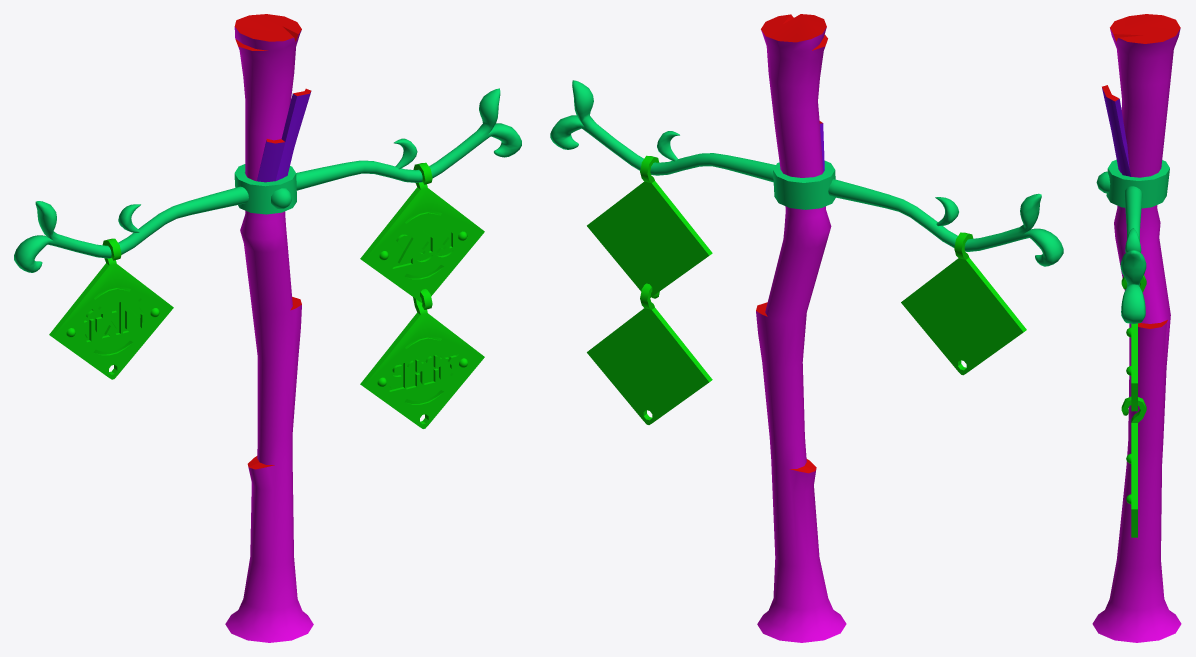
File: F_Milestone.fbx
3 views of the same model, side by side, from view 1: azimuth 30°, elevation 25°; view 2: azimuth 150°, elevation 25°; view 3: azimuth 270°, elevation 25° (orthographic).
Parts seen in each view (by area): view 1: Object004; view 2: Object004; view 3: Object004.
Part boxes in pixels (x1,y1,x2,y2): Object004: [14, 14, 521, 642]; Object004: [550, 14, 1063, 642]; Object004: [1092, 14, 1181, 642].
Size of the model in its own units: 230 by 260 by 35.21.
